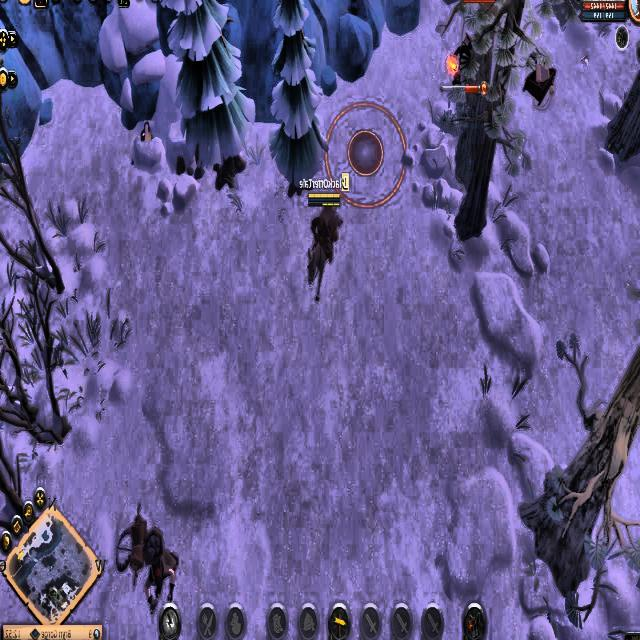copperore: (137, 118, 157, 154)
